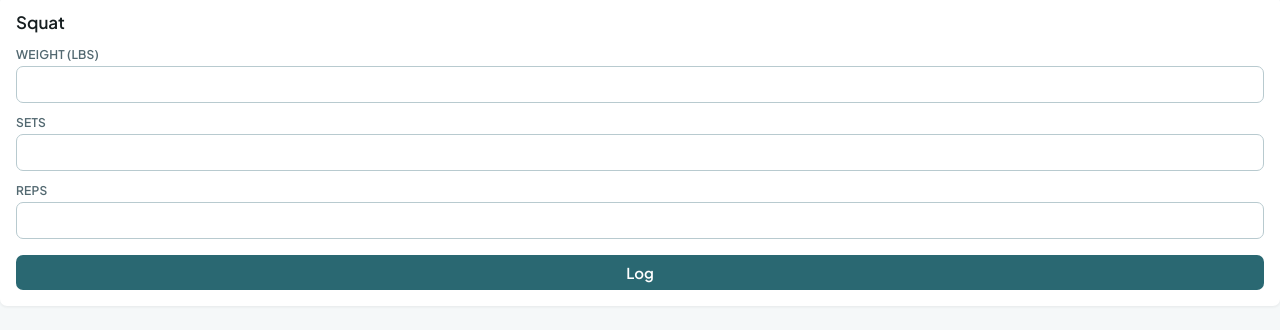
Test: ExerciseCard › shows only reps error when reps < 1
Type "100" into the number field labelled "Weight (lbs)".
click(640, 84); type("100")  # box [16,66,1264,103]
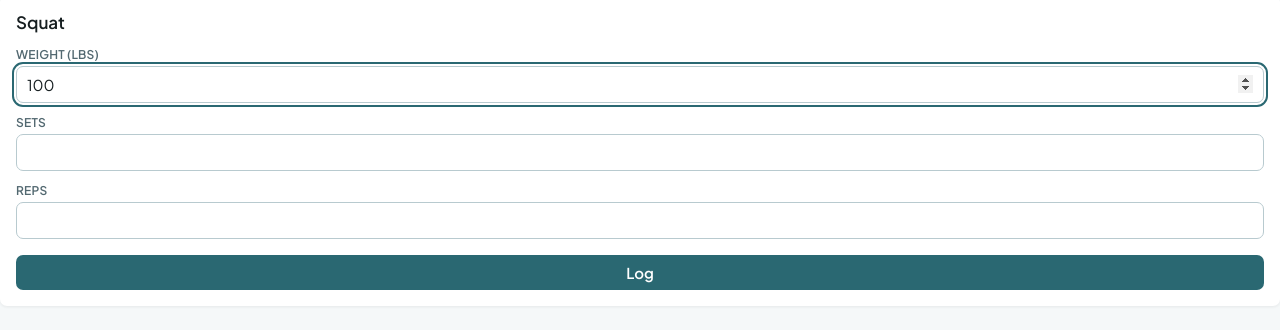
Type "3" into the number field labelled "Sets".
click(640, 152); type("3")  # box [16,134,1264,171]
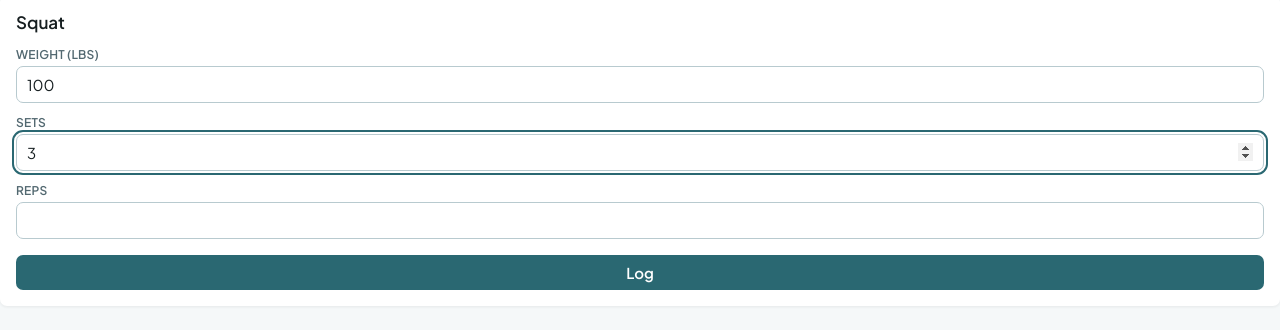
Type "0" into the number field labelled "Reps".
click(640, 220); type("0")  # box [16,202,1264,239]
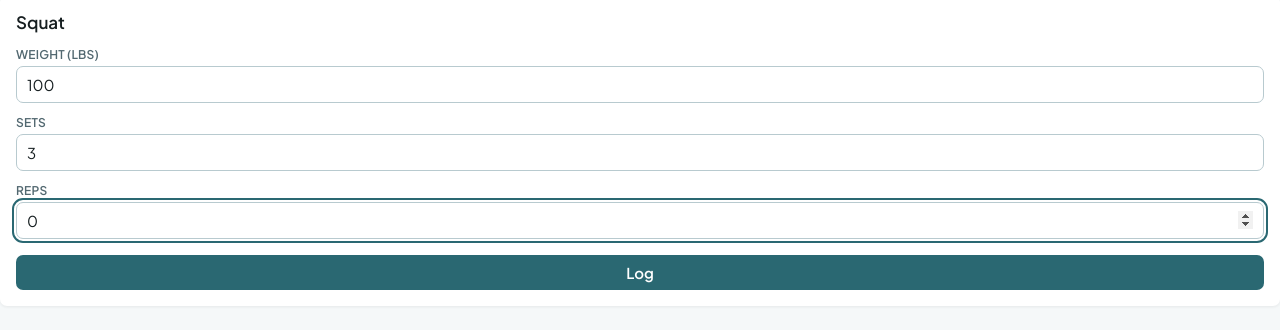
Click the button "Log".
click(640, 272)  # box [16,255,1264,290]
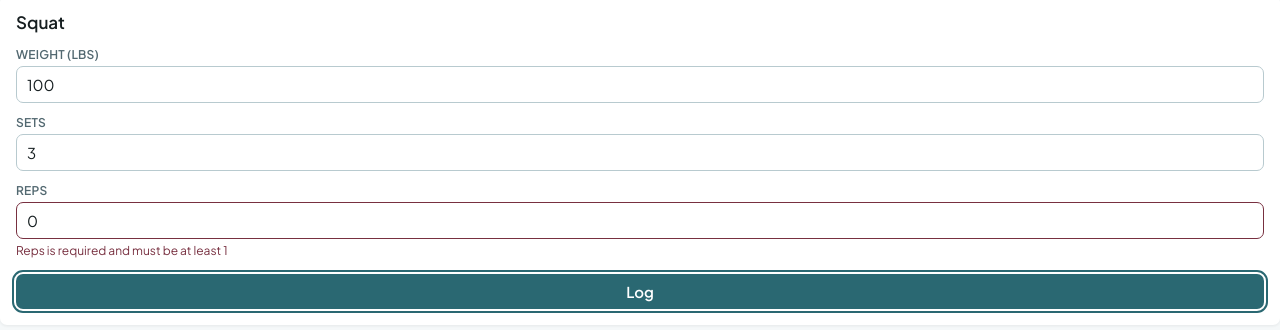
Expected: the text "Reps is required and must be at least 1" is shown, [16,243,228,258]
